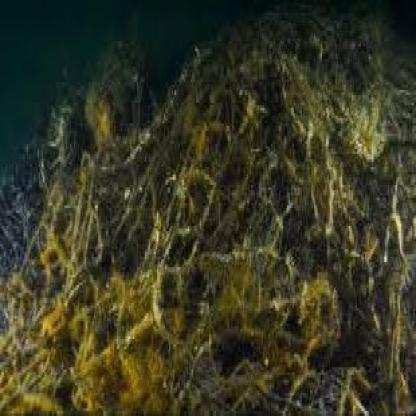net: (4, 25, 415, 414)
